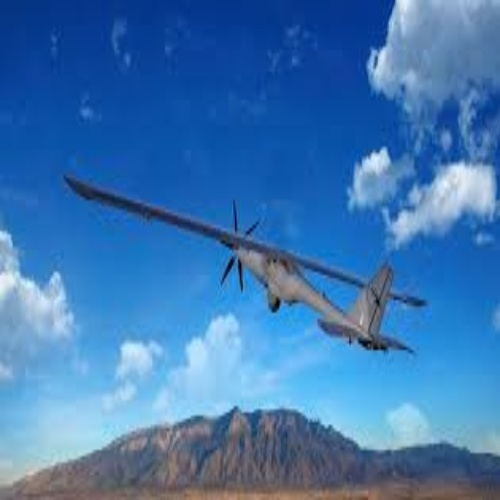uav233: (59, 173, 426, 360)
